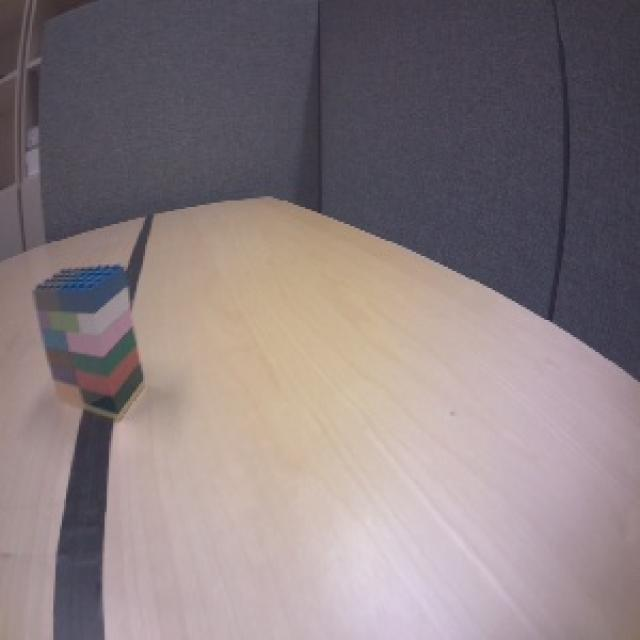obstacle: (28, 262, 150, 425)
